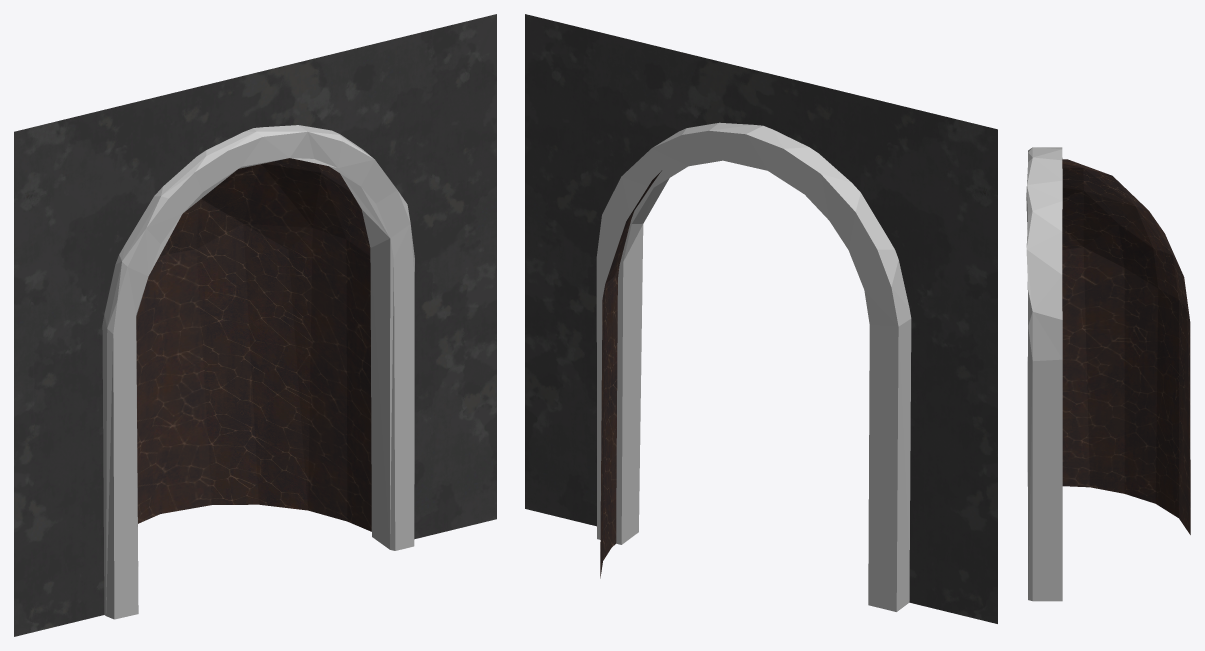
File: AlcoveArchway_02_Lod2.fbx
3 views of the same model, side by side, from view 1: azimuth 30°, elevation 25°; view 2: azimuth 150°, elevation 25°; view 3: azimuth 270°, elevation 25° (orthographic). The views are drawn at different scales.
Visible parts, largest first — view 1: S_Sunforged_AlcoveArchway_02_Lod2.mo; view 2: S_Sunforged_AlcoveArchway_02_Lod2.mo; view 3: S_Sunforged_AlcoveArchway_02_Lod2.mo.
Boxes of the visible parts, x1,y1,x2,y2 form: S_Sunforged_AlcoveArchway_02_Lod2.mo: (14, 14, 496, 636); S_Sunforged_AlcoveArchway_02_Lod2.mo: (525, 14, 997, 623); S_Sunforged_AlcoveArchway_02_Lod2.mo: (1026, 147, 1190, 601).
Bounding box in the file's own units: 1080 × 1080 × 379.
